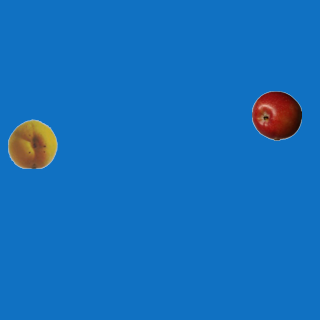Apple Braeburn: (251, 90, 301, 140)
Peach 2: (7, 118, 57, 168)
